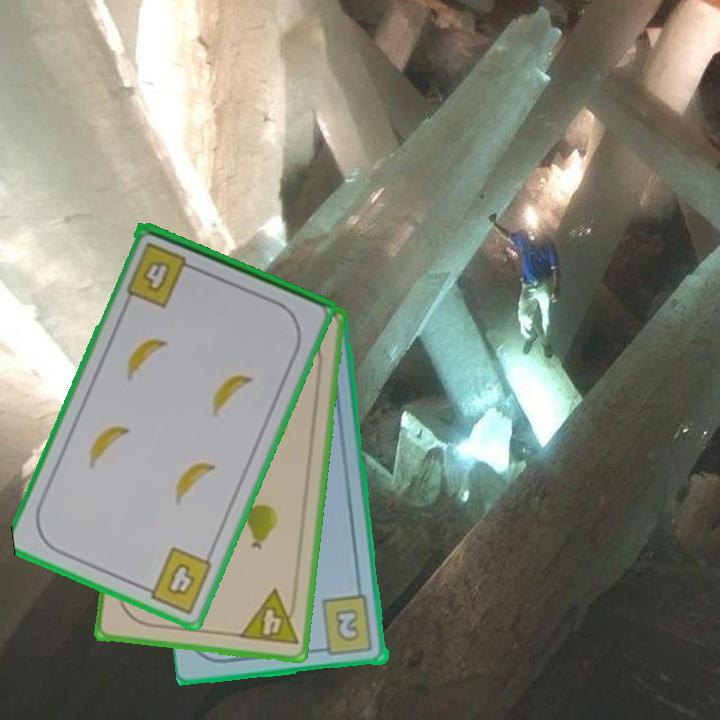2b: (314, 593, 376, 659)
4b: (137, 543, 216, 617), (122, 239, 200, 311)
4p: (235, 586, 301, 649)
